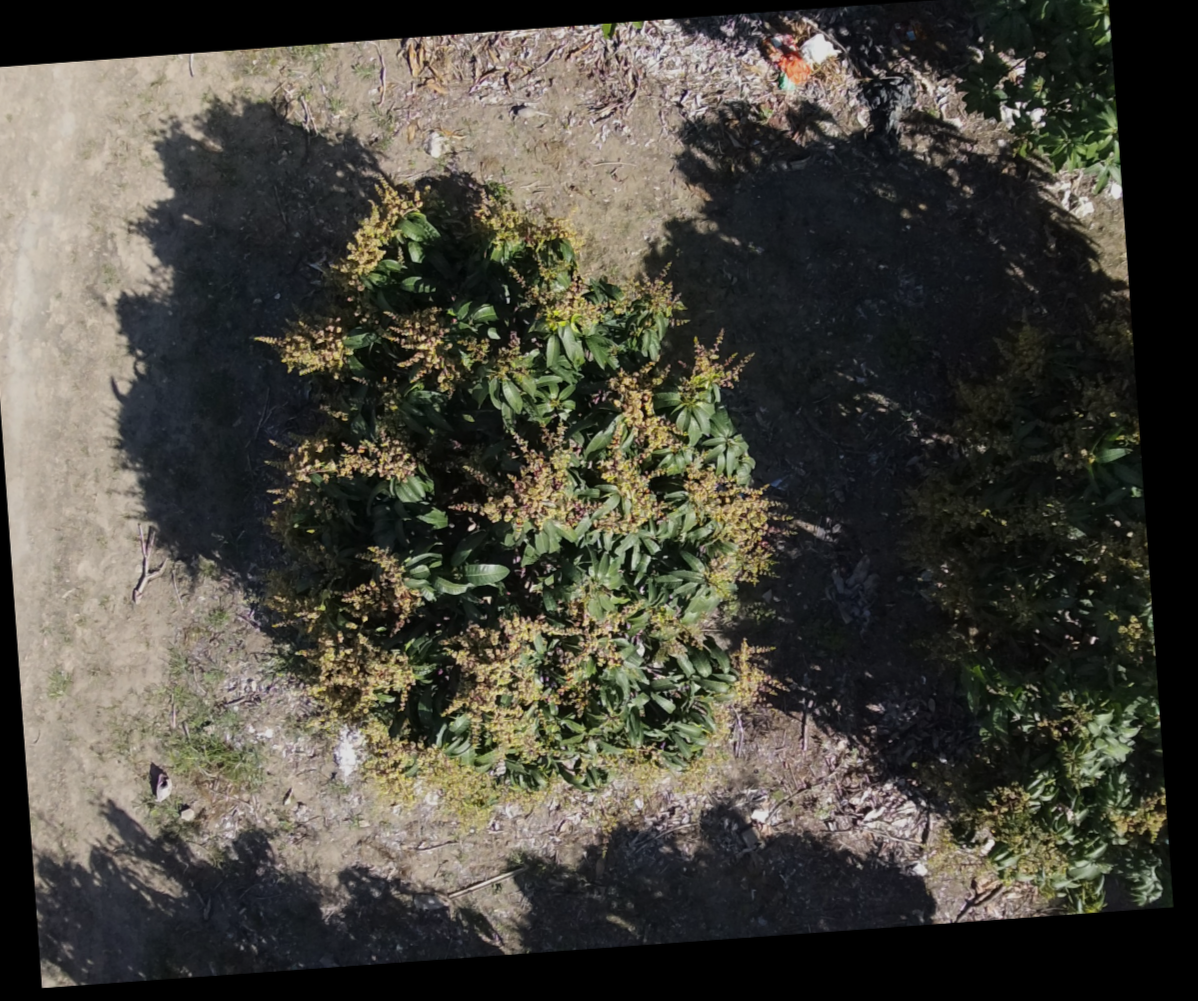flowers: (444, 606, 623, 762), (516, 253, 678, 365), (929, 326, 1052, 449), (591, 367, 681, 533), (448, 429, 588, 533), (362, 713, 498, 815), (907, 475, 997, 617), (267, 483, 345, 644), (686, 459, 774, 597), (960, 781, 1065, 894), (329, 182, 427, 287), (305, 632, 415, 715), (341, 545, 421, 633), (282, 432, 417, 484), (1049, 379, 1122, 469), (714, 638, 785, 729), (476, 194, 581, 255), (389, 307, 456, 394), (676, 330, 753, 401), (256, 319, 348, 375), (924, 825, 992, 882), (642, 605, 705, 658), (1109, 788, 1167, 843), (916, 625, 980, 663), (486, 331, 529, 379), (352, 375, 367, 384)
